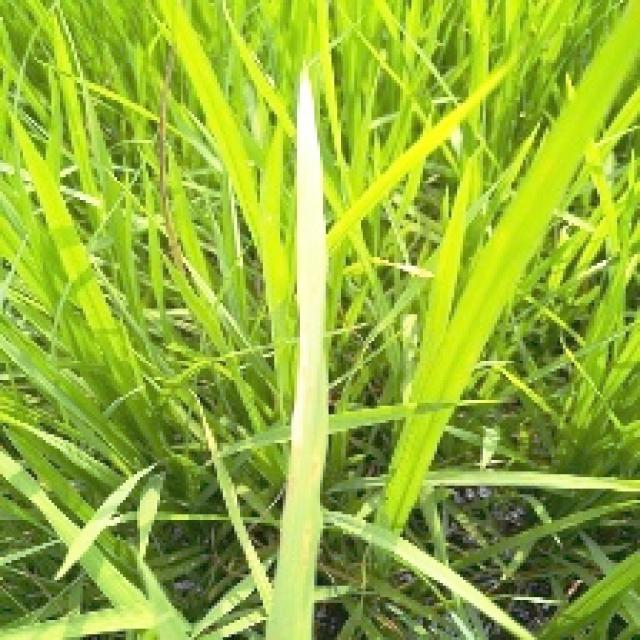unhealth: (267, 67, 329, 639)
